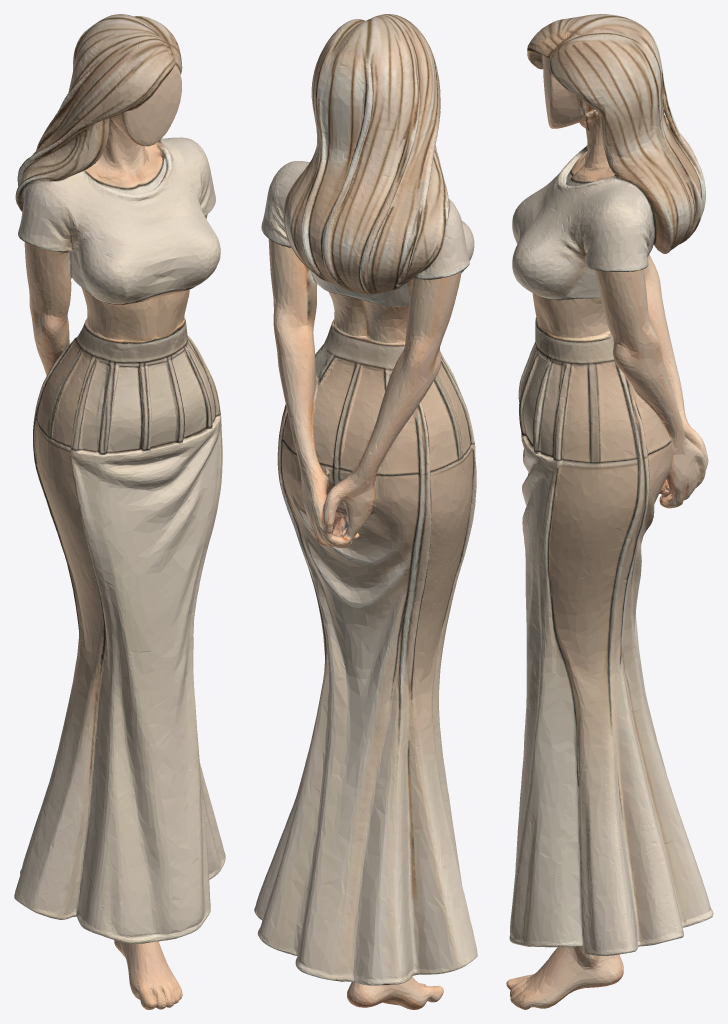
The model's file is under-the-drape.simplified.glb.
The picture shows the model from 3 angles, left to right: view 1: azimuth 30°, elevation 25°; view 2: azimuth 150°, elevation 25°; view 3: azimuth 270°, elevation 25°; orthographic projection. The views are drawn at different scales.
Visible parts, largest first — view 1: world; view 2: world; view 3: world.
Part boxes in pixels (box(x1,y1,x2,y2)): world: box(14, 14, 225, 1009); world: box(254, 14, 477, 1009); world: box(506, 14, 713, 1009).
Size of the model in its own units: 0.4427 by 1.99 by 0.3785.
1 material, 1 textured.
